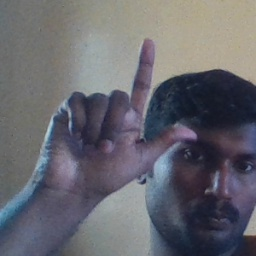L: (33, 36, 198, 193)
